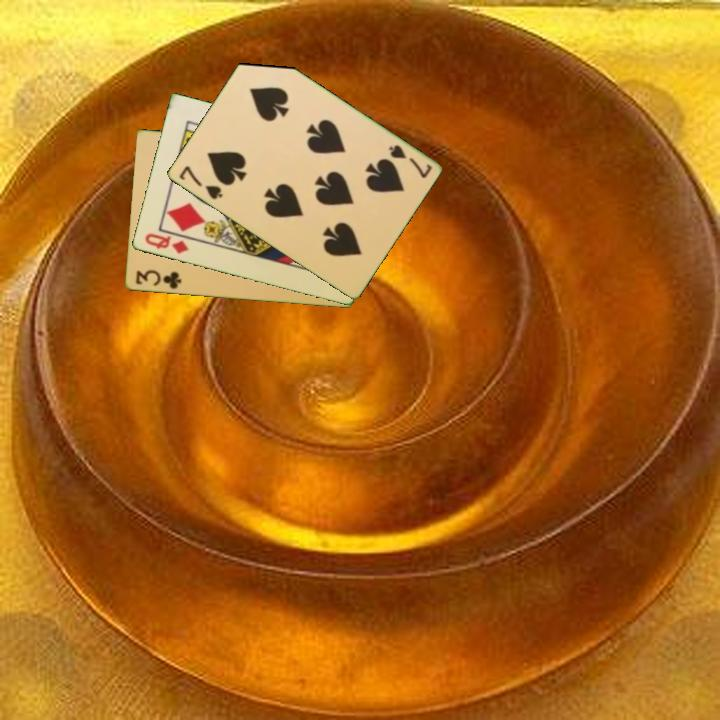3c: (132, 266, 184, 292)
7s: (175, 162, 225, 203), (385, 141, 435, 181)
Qd: (141, 230, 191, 257)
